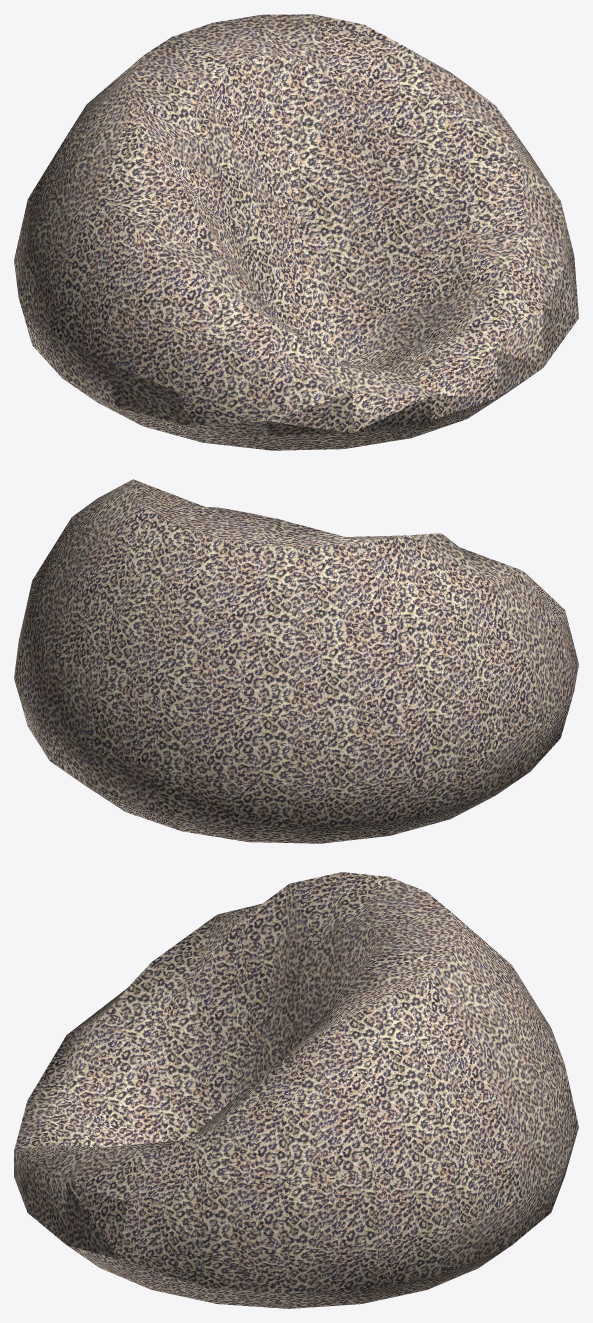
Rendered from bean_bag_1.glb.
3 renders of one model, top to bottom at view 1: azimuth 30°, elevation 25°; view 2: azimuth 150°, elevation 25°; view 3: azimuth 270°, elevation 25°, orthographic.
Parts seen in each view (by area): view 1: bean bag; view 2: bean bag; view 3: bean bag.
Boxes of the visible parts, <box> form: bean bag: <box>14,14,578,450</box>; bean bag: <box>14,479,578,843</box>; bean bag: <box>14,872,578,1308</box>.
Size of the model in its own units: 0.6237 by 0.3619 by 0.6085.
1 material, 1 textured.
